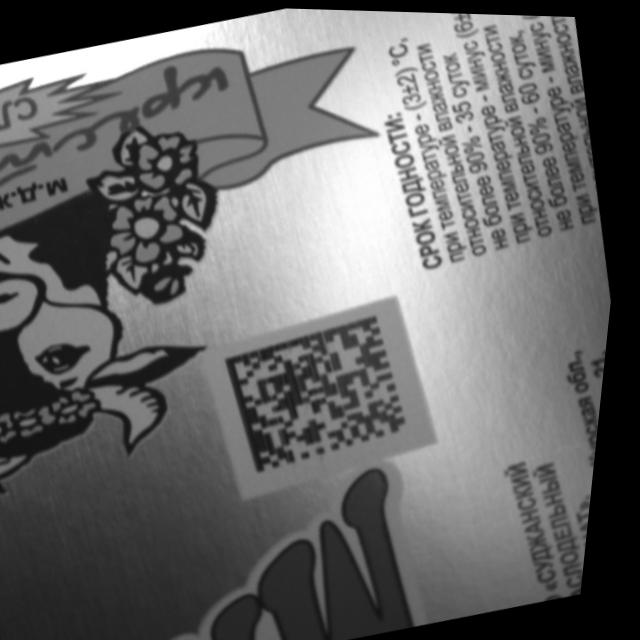datamatrix: (219, 306, 430, 481)
